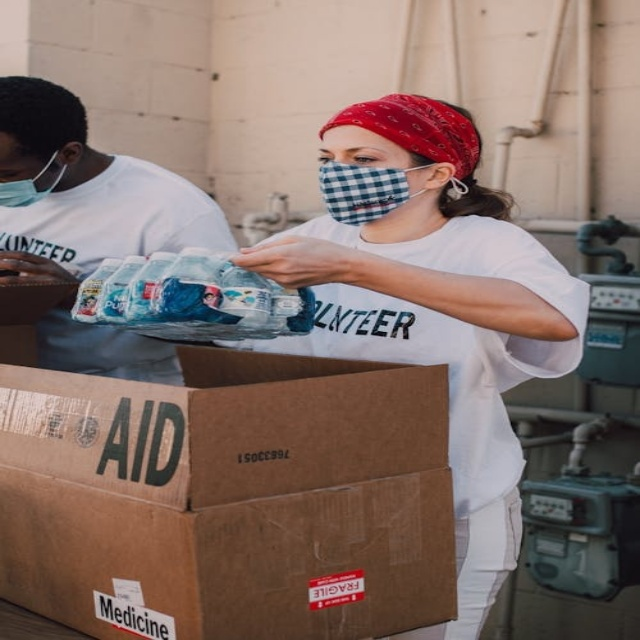Mascara: (318, 159, 439, 225), (0, 149, 63, 208)
Sin_gafas: (1, 159, 36, 181), (353, 156, 379, 164), (318, 157, 333, 166)
Sin_guantes: (225, 234, 356, 289), (0, 252, 76, 285)
